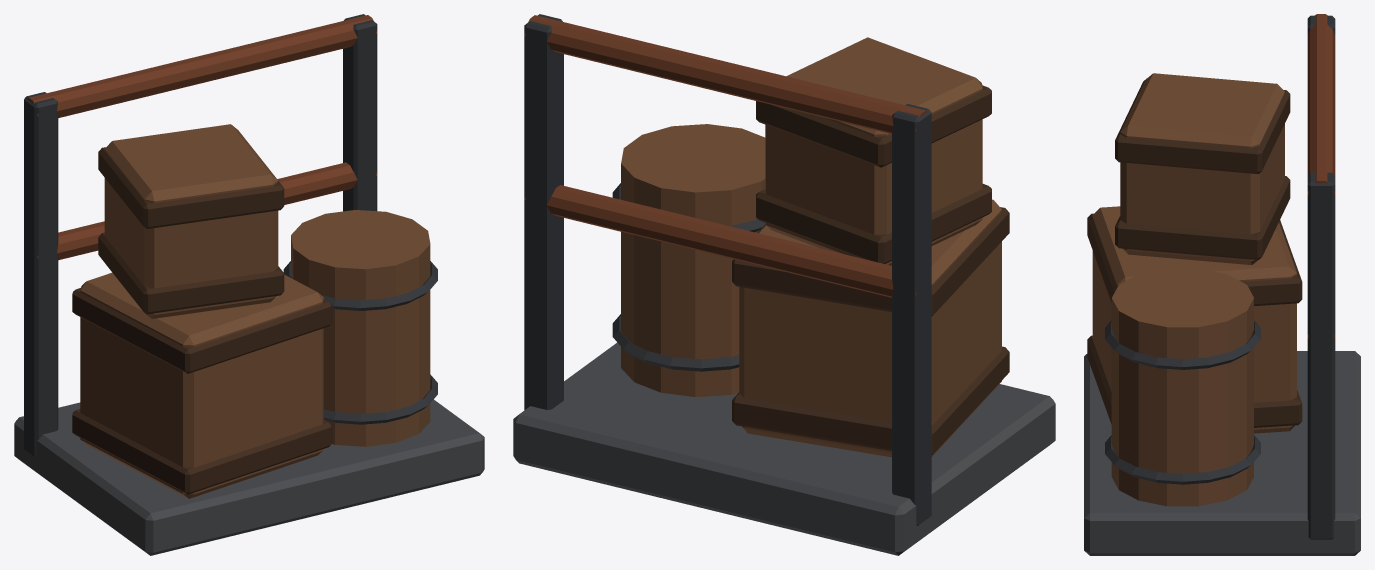
The model's file is press_wall_a.glb.
3 views of the same model, side by side, from view 1: azimuth 30°, elevation 25°; view 2: azimuth 150°, elevation 25°; view 3: azimuth 270°, elevation 25° (orthographic). The views are drawn at different scales.
Visible parts, largest first — view 1: PressWallA; view 2: PressWallA; view 3: PressWallA.
Boxes of the visible parts, x1,y1,x2,y2 form: PressWallA: [14, 14, 484, 555]; PressWallA: [513, 14, 1055, 555]; PressWallA: [1084, 14, 1360, 555].
Bounding box in the file's own units: 1.01 × 1.05 × 0.7.
